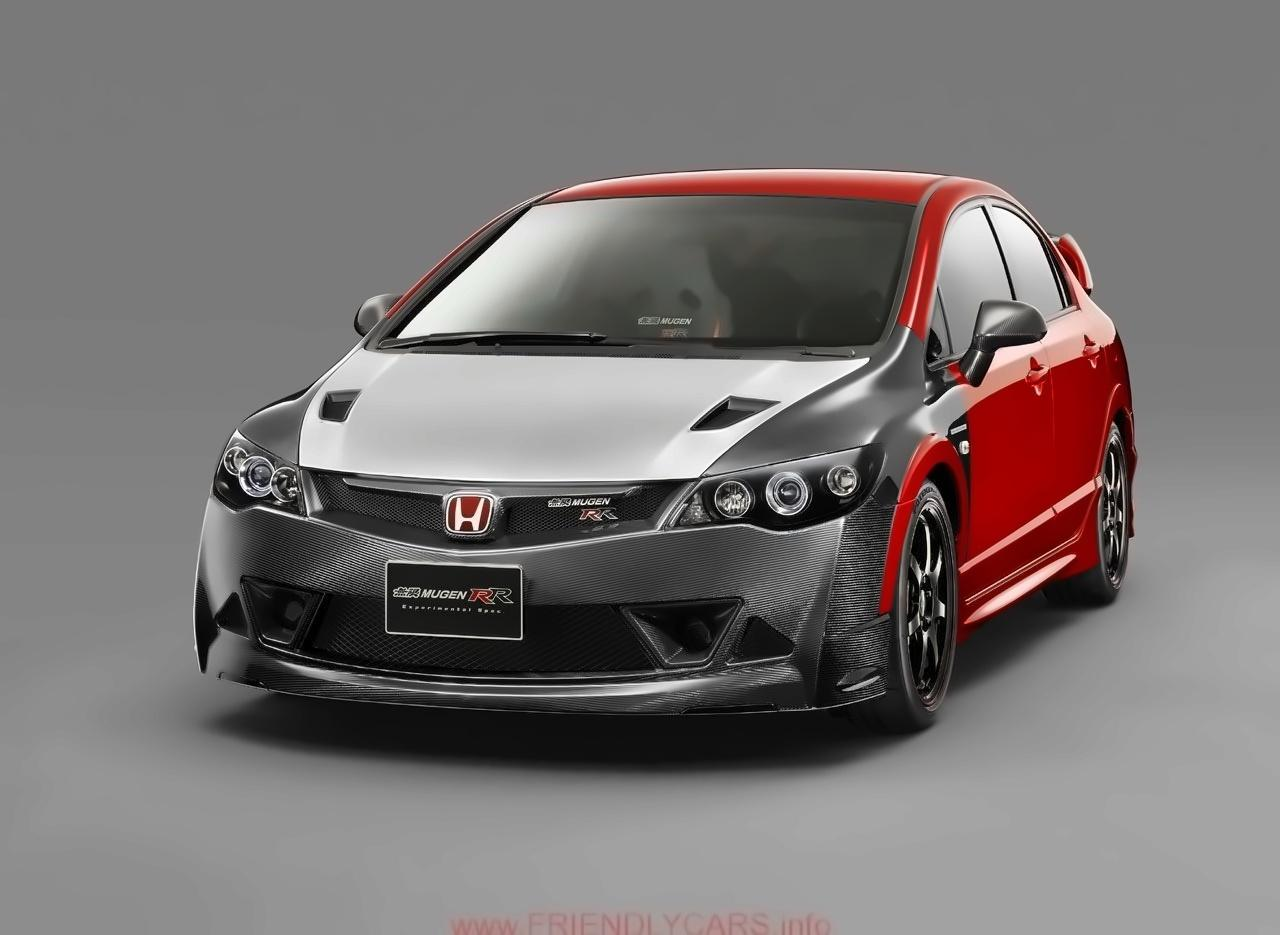Car hood: (227, 332, 904, 491)
Fender - -F-L-: (864, 312, 979, 640)
Front bumper: (192, 499, 900, 725)
Headlight - -L-: (664, 442, 884, 541)
Headlight - -R-: (204, 430, 311, 530)
Passenger-s door - -F-L-: (913, 172, 1069, 655)
Passenger-s door - -R-L-: (982, 179, 1114, 601)
Side bumper - -L-: (943, 500, 1102, 660)
Side mirror - -L-: (937, 300, 1047, 397)
Side mirror - -R-: (350, 289, 409, 340)
